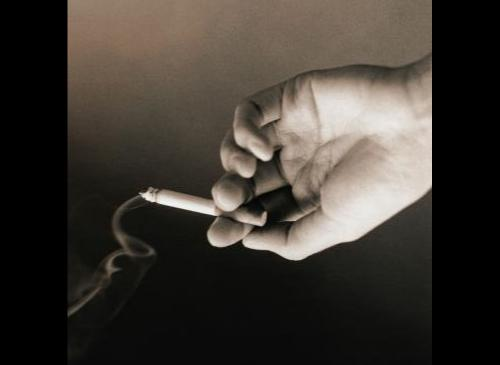Cigarette: (140, 182, 267, 226)
